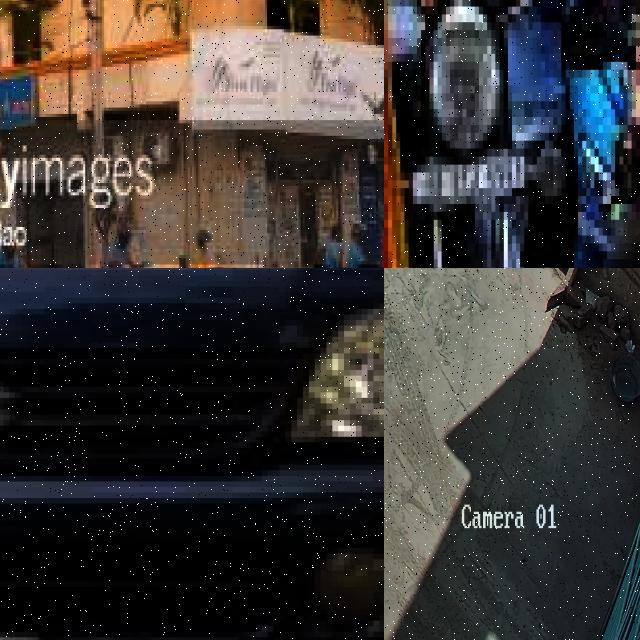bike: (396, 0, 561, 268), (512, 0, 640, 268), (303, 229, 384, 268)
car: (0, 268, 384, 640)
